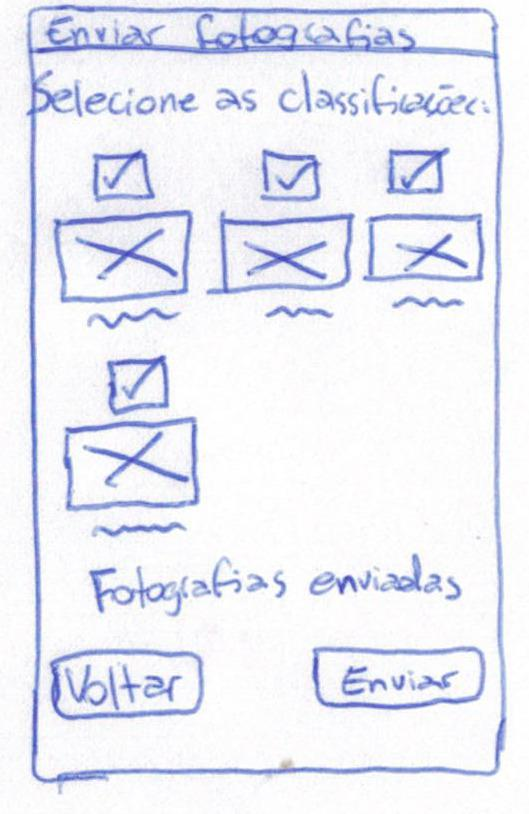Button: (312, 646, 486, 708), (50, 650, 204, 720)
CheckBox: (107, 356, 170, 415), (261, 147, 321, 202), (91, 153, 157, 201), (387, 149, 450, 195)
Image: (55, 209, 194, 305), (63, 417, 201, 513), (220, 212, 356, 294), (367, 214, 484, 283)
Label: (86, 553, 464, 615), (33, 70, 495, 116), (46, 12, 421, 49), (85, 307, 183, 332), (90, 521, 189, 536), (264, 304, 335, 319), (391, 296, 466, 310)
Screen: (27, 4, 509, 783)
